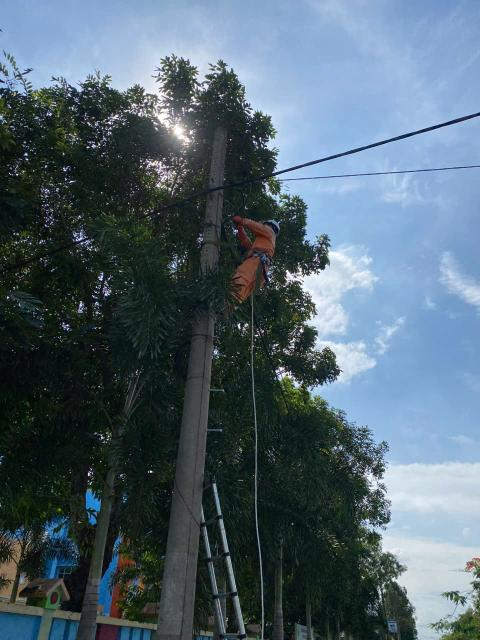gloves: (234, 224, 248, 241), (231, 216, 248, 226)
harness: (241, 248, 274, 268)
helmet: (261, 214, 285, 237)
